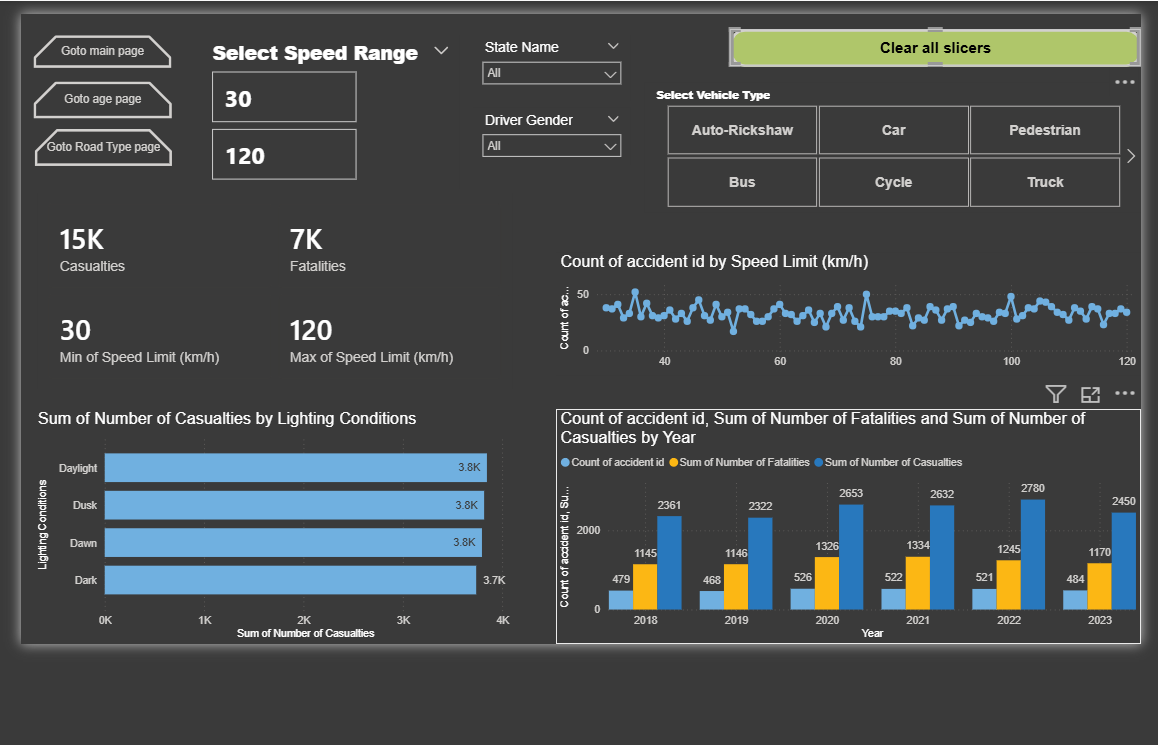

This screenshot's page, from the dashboard's own definition file:
{"tool":"powerbi","page":{"name":"speed ","canvas":[1280,720],"ordinal":1},"visuals":[{"type":"slicer","fields":{"Values":["accident_prediction_india.Vehicle Type Involved"]},"box":[713,78.4,567,148.4],"z":0},{"type":"barChart","fields":{"Y":["Sum(accident_prediction_india.Number of Casualties)"],"Category":["accident_prediction_india.Lighting Conditions"]},"box":[14.9,452,553.8,268.2],"z":1000},{"type":"slicer","fields":{"Values":["accident_prediction_india.Speed Limit (km/h)"]},"box":[206.1,23.6,295.5,176.3],"z":2000},{"type":"cardVisual","fields":{"Data":["Sum(accident_prediction_india.Number of Casualties)","Sum(accident_prediction_india.Number of Fatalities)","Min(accident_prediction_india.Speed Limit (km/h))","Max(accident_prediction_india.Speed Limit (km/h))1"]},"box":[14.9,199.9,553.8,235.9],"z":3000},{"type":"lineChart","fields":{"Category":["accident_prediction_india.Speed Limit (km/h)"],"Y":["CountNonNull(accident_prediction_india.accident id)"]},"box":[611.7,272.7,668.4,139.9],"z":4000},{"type":"clusteredColumnChart","fields":{"Y":["CountNonNull(accident_prediction_india.accident id)","Sum(accident_prediction_india.Number of Fatalities)","Sum(accident_prediction_india.Number of Casualties)"],"Category":["accident_prediction_india.Year"]},"box":[612,452,668,268],"z":5000},{"type":"slicer","fields":{"Values":["accident_prediction_india.State Name"]},"box":[516.6,23.6,178.8,74.5],"z":6000},{"type":"slicer","fields":{"Values":["accident_prediction_india.Driver Gender"]},"box":[516.6,106.8,178.8,65.8],"z":7000},{"type":"actionButton","box":[14.9,23.6,157.7,37.3],"z":8000},{"type":"actionButton","box":[14.5,77.2,158,42.2],"z":9000},{"type":"actionButton","box":[15.7,131.5,156.8,42.2],"z":9001},{"type":"actionButton","box":[809.5,16.9,470.5,43.4],"z":9002}]}

Visuals, with their boxes on the page's 1280x720 design canvas (x1, y1, x2, y2). These are canvas units, not pixel positions in the 1158x745 screenshot, which may show the page scaled, cropped or inside an application window:
slicer - accident_prediction_india.Vehicle Type Involved: {"x1": 713, "y1": 78, "x2": 1280, "y2": 227}
barChart - Sum(accident_prediction_india.Number of Casualties) x accident_prediction_india.Lighting Conditions: {"x1": 15, "y1": 452, "x2": 569, "y2": 720}
slicer - accident_prediction_india.Speed Limit (km/h): {"x1": 206, "y1": 24, "x2": 502, "y2": 200}
cardVisual - Sum(accident_prediction_india.Number of Casualties) x Sum(accident_prediction_india.Number of Fatalities): {"x1": 15, "y1": 200, "x2": 569, "y2": 436}
lineChart - accident_prediction_india.Speed Limit (km/h) x CountNonNull(accident_prediction_india.accident id): {"x1": 612, "y1": 273, "x2": 1280, "y2": 413}
clusteredColumnChart - CountNonNull(accident_prediction_india.accident id) x Sum(accident_prediction_india.Number of Fatalities): {"x1": 612, "y1": 452, "x2": 1280, "y2": 720}
slicer - accident_prediction_india.State Name: {"x1": 517, "y1": 24, "x2": 695, "y2": 98}
slicer - accident_prediction_india.Driver Gender: {"x1": 517, "y1": 107, "x2": 695, "y2": 173}
actionButton: {"x1": 15, "y1": 24, "x2": 173, "y2": 61}
actionButton: {"x1": 14, "y1": 77, "x2": 172, "y2": 119}
actionButton: {"x1": 16, "y1": 132, "x2": 172, "y2": 174}
actionButton: {"x1": 810, "y1": 17, "x2": 1280, "y2": 60}
